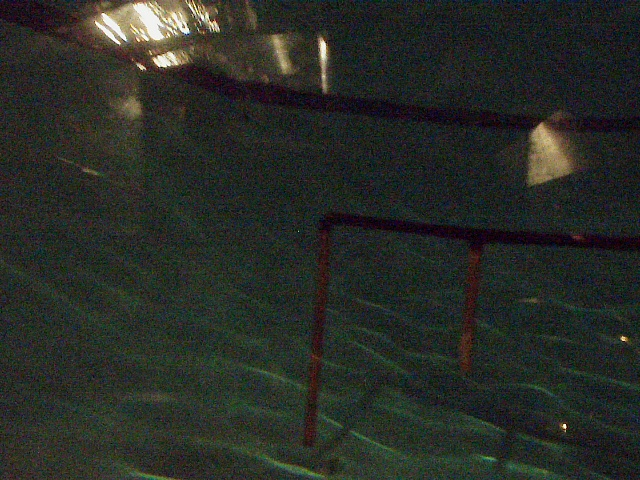Gate: (294, 226, 334, 450), (451, 241, 488, 371)
